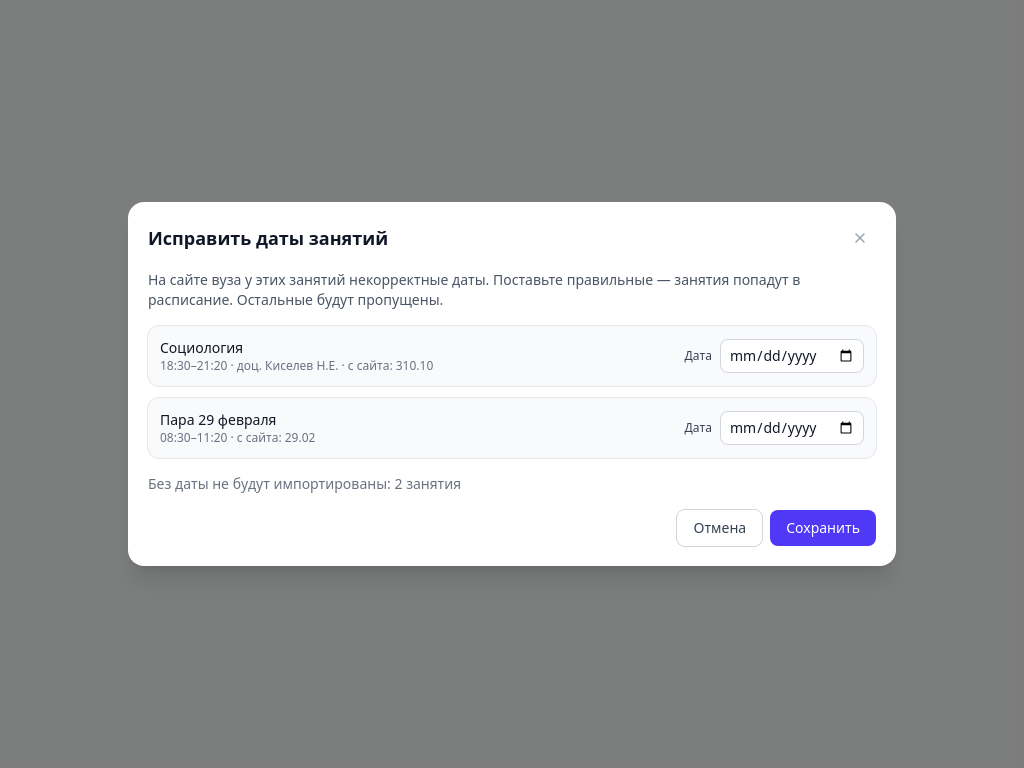
Test: RanepaFixDatesModal › counts lessons left without a date
Expected: the text "Без даты не будут импортированы: 2 занятия" is shown, [148, 474, 461, 493]
In the date field labelled "Дата" in the row of "Социология": (792, 356) [720, 339, 864, 373], type "2026-10-31"
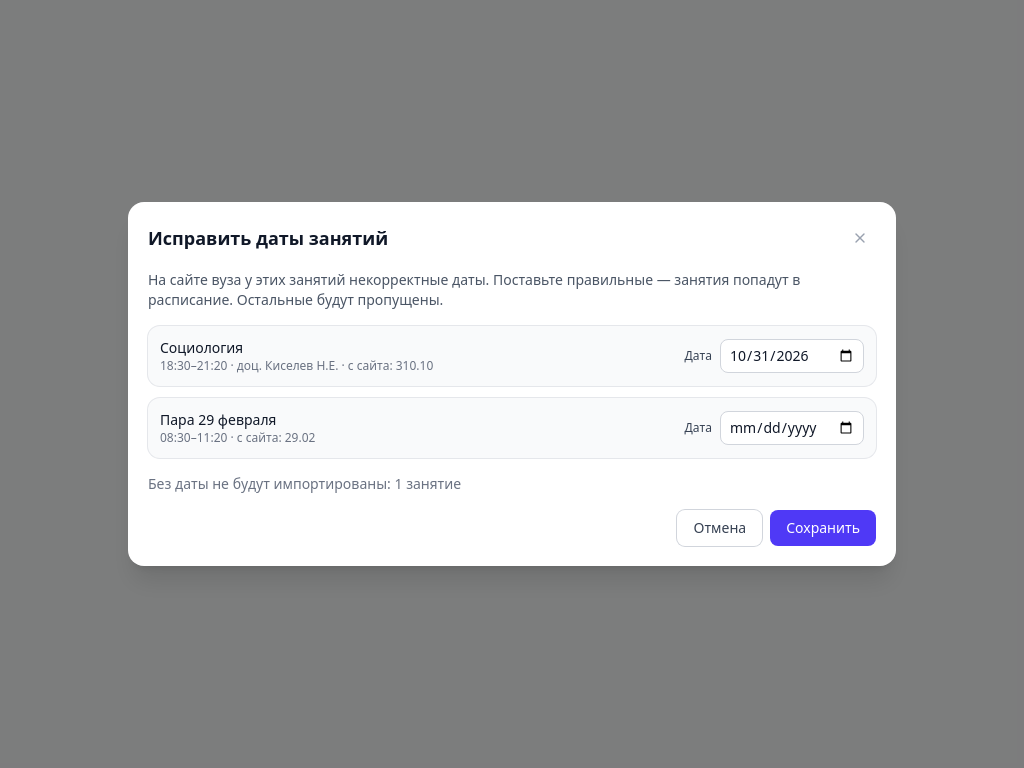
Expected: the text "Без даты не будут импортированы: 1 занятие" is shown, [148, 474, 461, 493]
